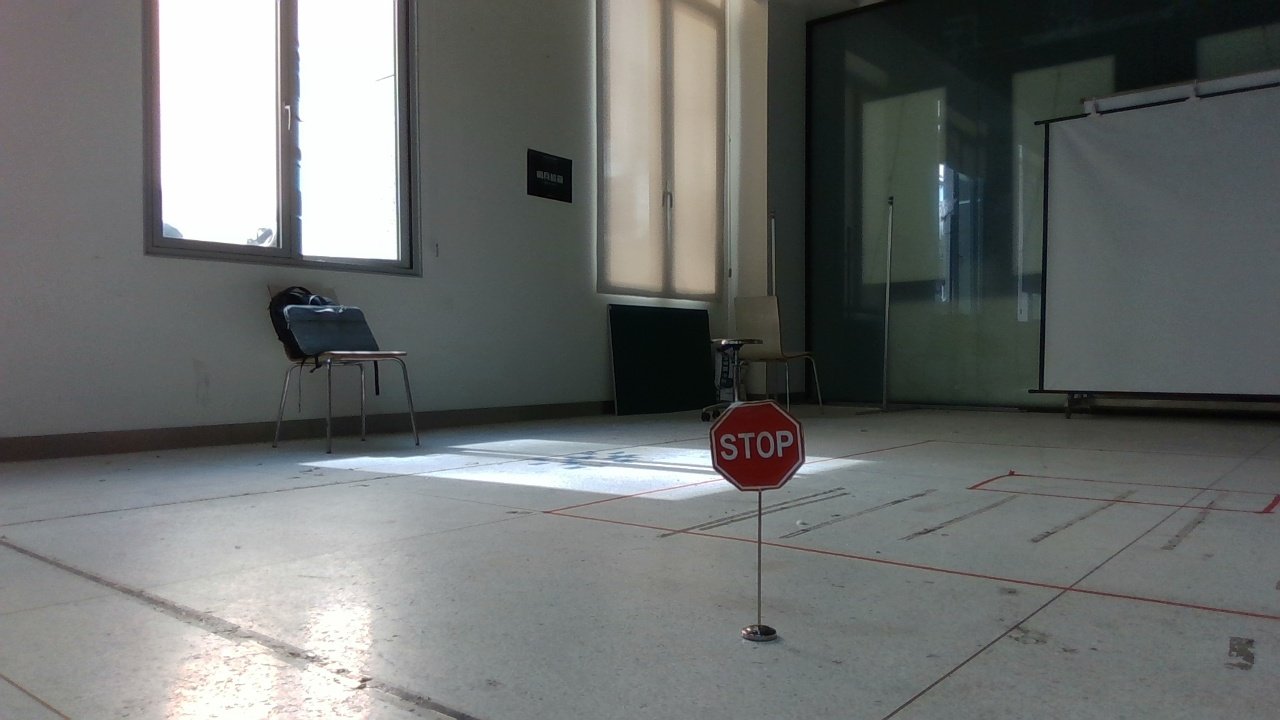stop_sign: (690, 392, 823, 495)
